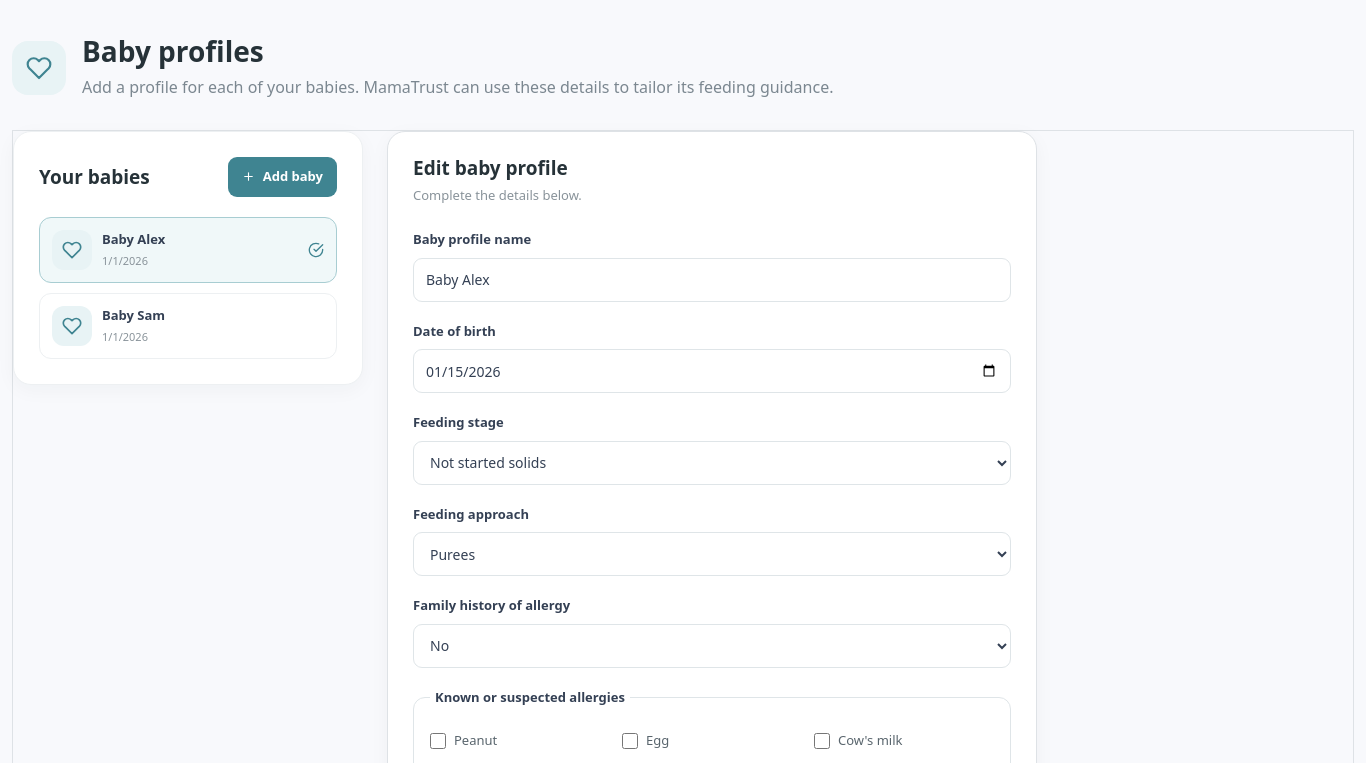
Test: Profile Page › allows the user to select an existing profile
Step 1. Click the button "Baby Sam 1/1/2026" → (72, 326), box x1=39 y1=293 x2=337 y2=359
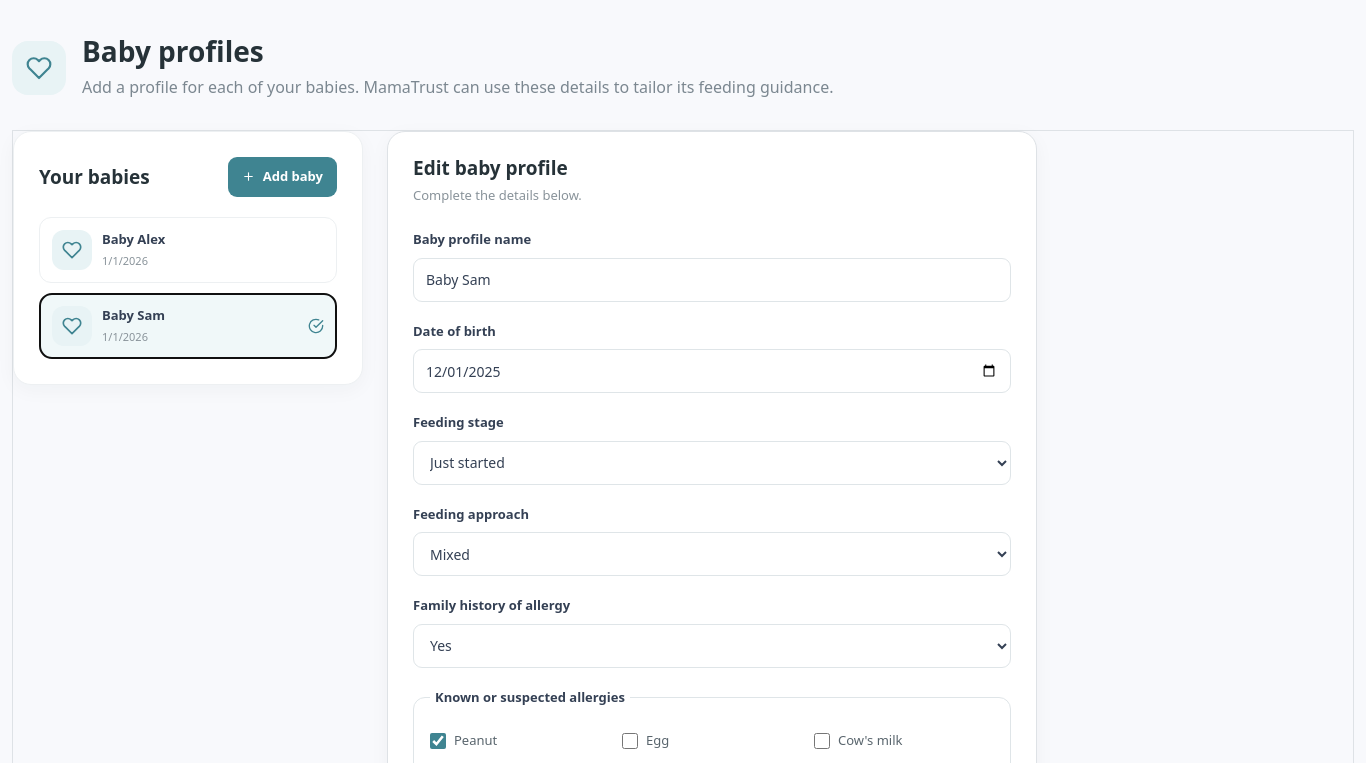
expect the field labelled "Baby profile name" holds "Baby Sam": met, box x1=413 y1=258 x2=1011 y2=302
expect the date field labelled "Date of birth" holds "2025-12-01": met, box x1=413 y1=350 x2=1011 y2=394
expect the dropdown labelled "Feeding approach" shows "Mixed": met, box x1=413 y1=532 x2=1011 y2=576
